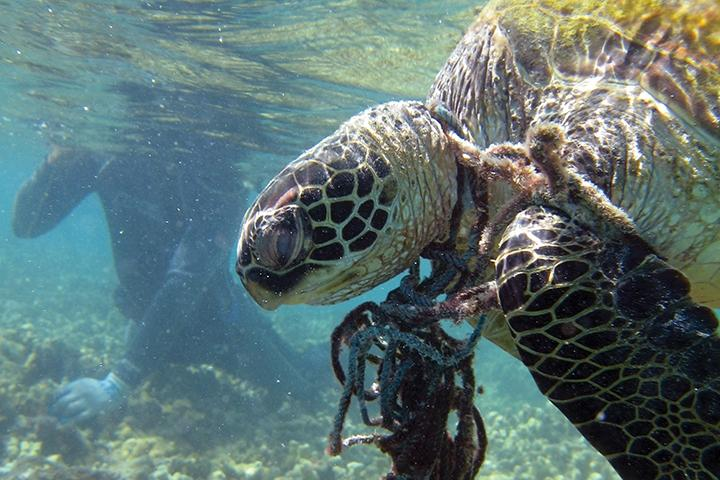litter: (328, 232, 520, 480)
